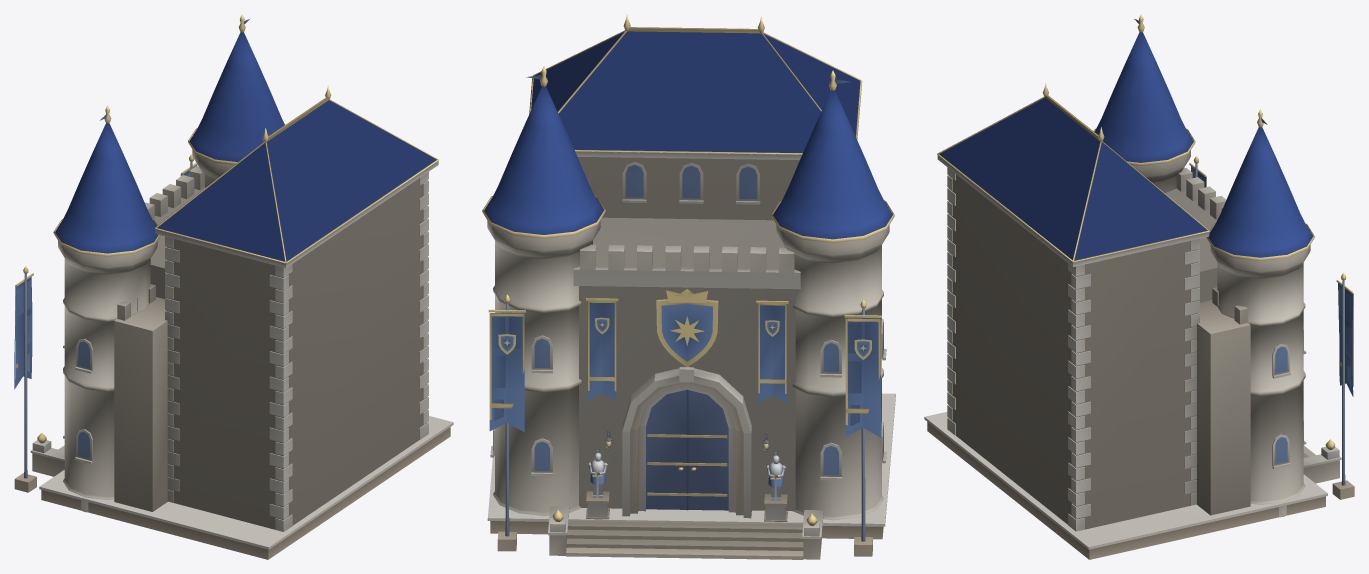
Rendered from knight_lite.glb.
The picture shows the model from 3 angles, left to right: view 1: azimuth 30°, elevation 25°; view 2: azimuth 150°, elevation 25°; view 3: azimuth 270°, elevation 25°; orthographic projection. The views are drawn at different scales.
Parts seen in each view (by area): view 1: Knight_stone, Knight_roof, Knight_props; view 2: Knight_stone, Knight_roof, Knight_props; view 3: Knight_stone, Knight_roof, Knight_props.
Part boxes in pixels (<box>): Knight_stone: <box>14,150,453,559</box>; Knight_roof: <box>55,32,436,261</box>; Knight_props: <box>14,14,438,478</box>; Knight_stone: <box>487,151,895,559</box>; Knight_roof: <box>484,31,892,239</box>; Knight_props: <box>482,14,894,541</box>; Knight_stone: <box>924,150,1354,559</box>; Knight_roof: <box>939,32,1313,260</box>; Knight_props: <box>937,14,1353,485</box>.
Bounding box in the file's own units: 19.75 × 19 × 18.95.
